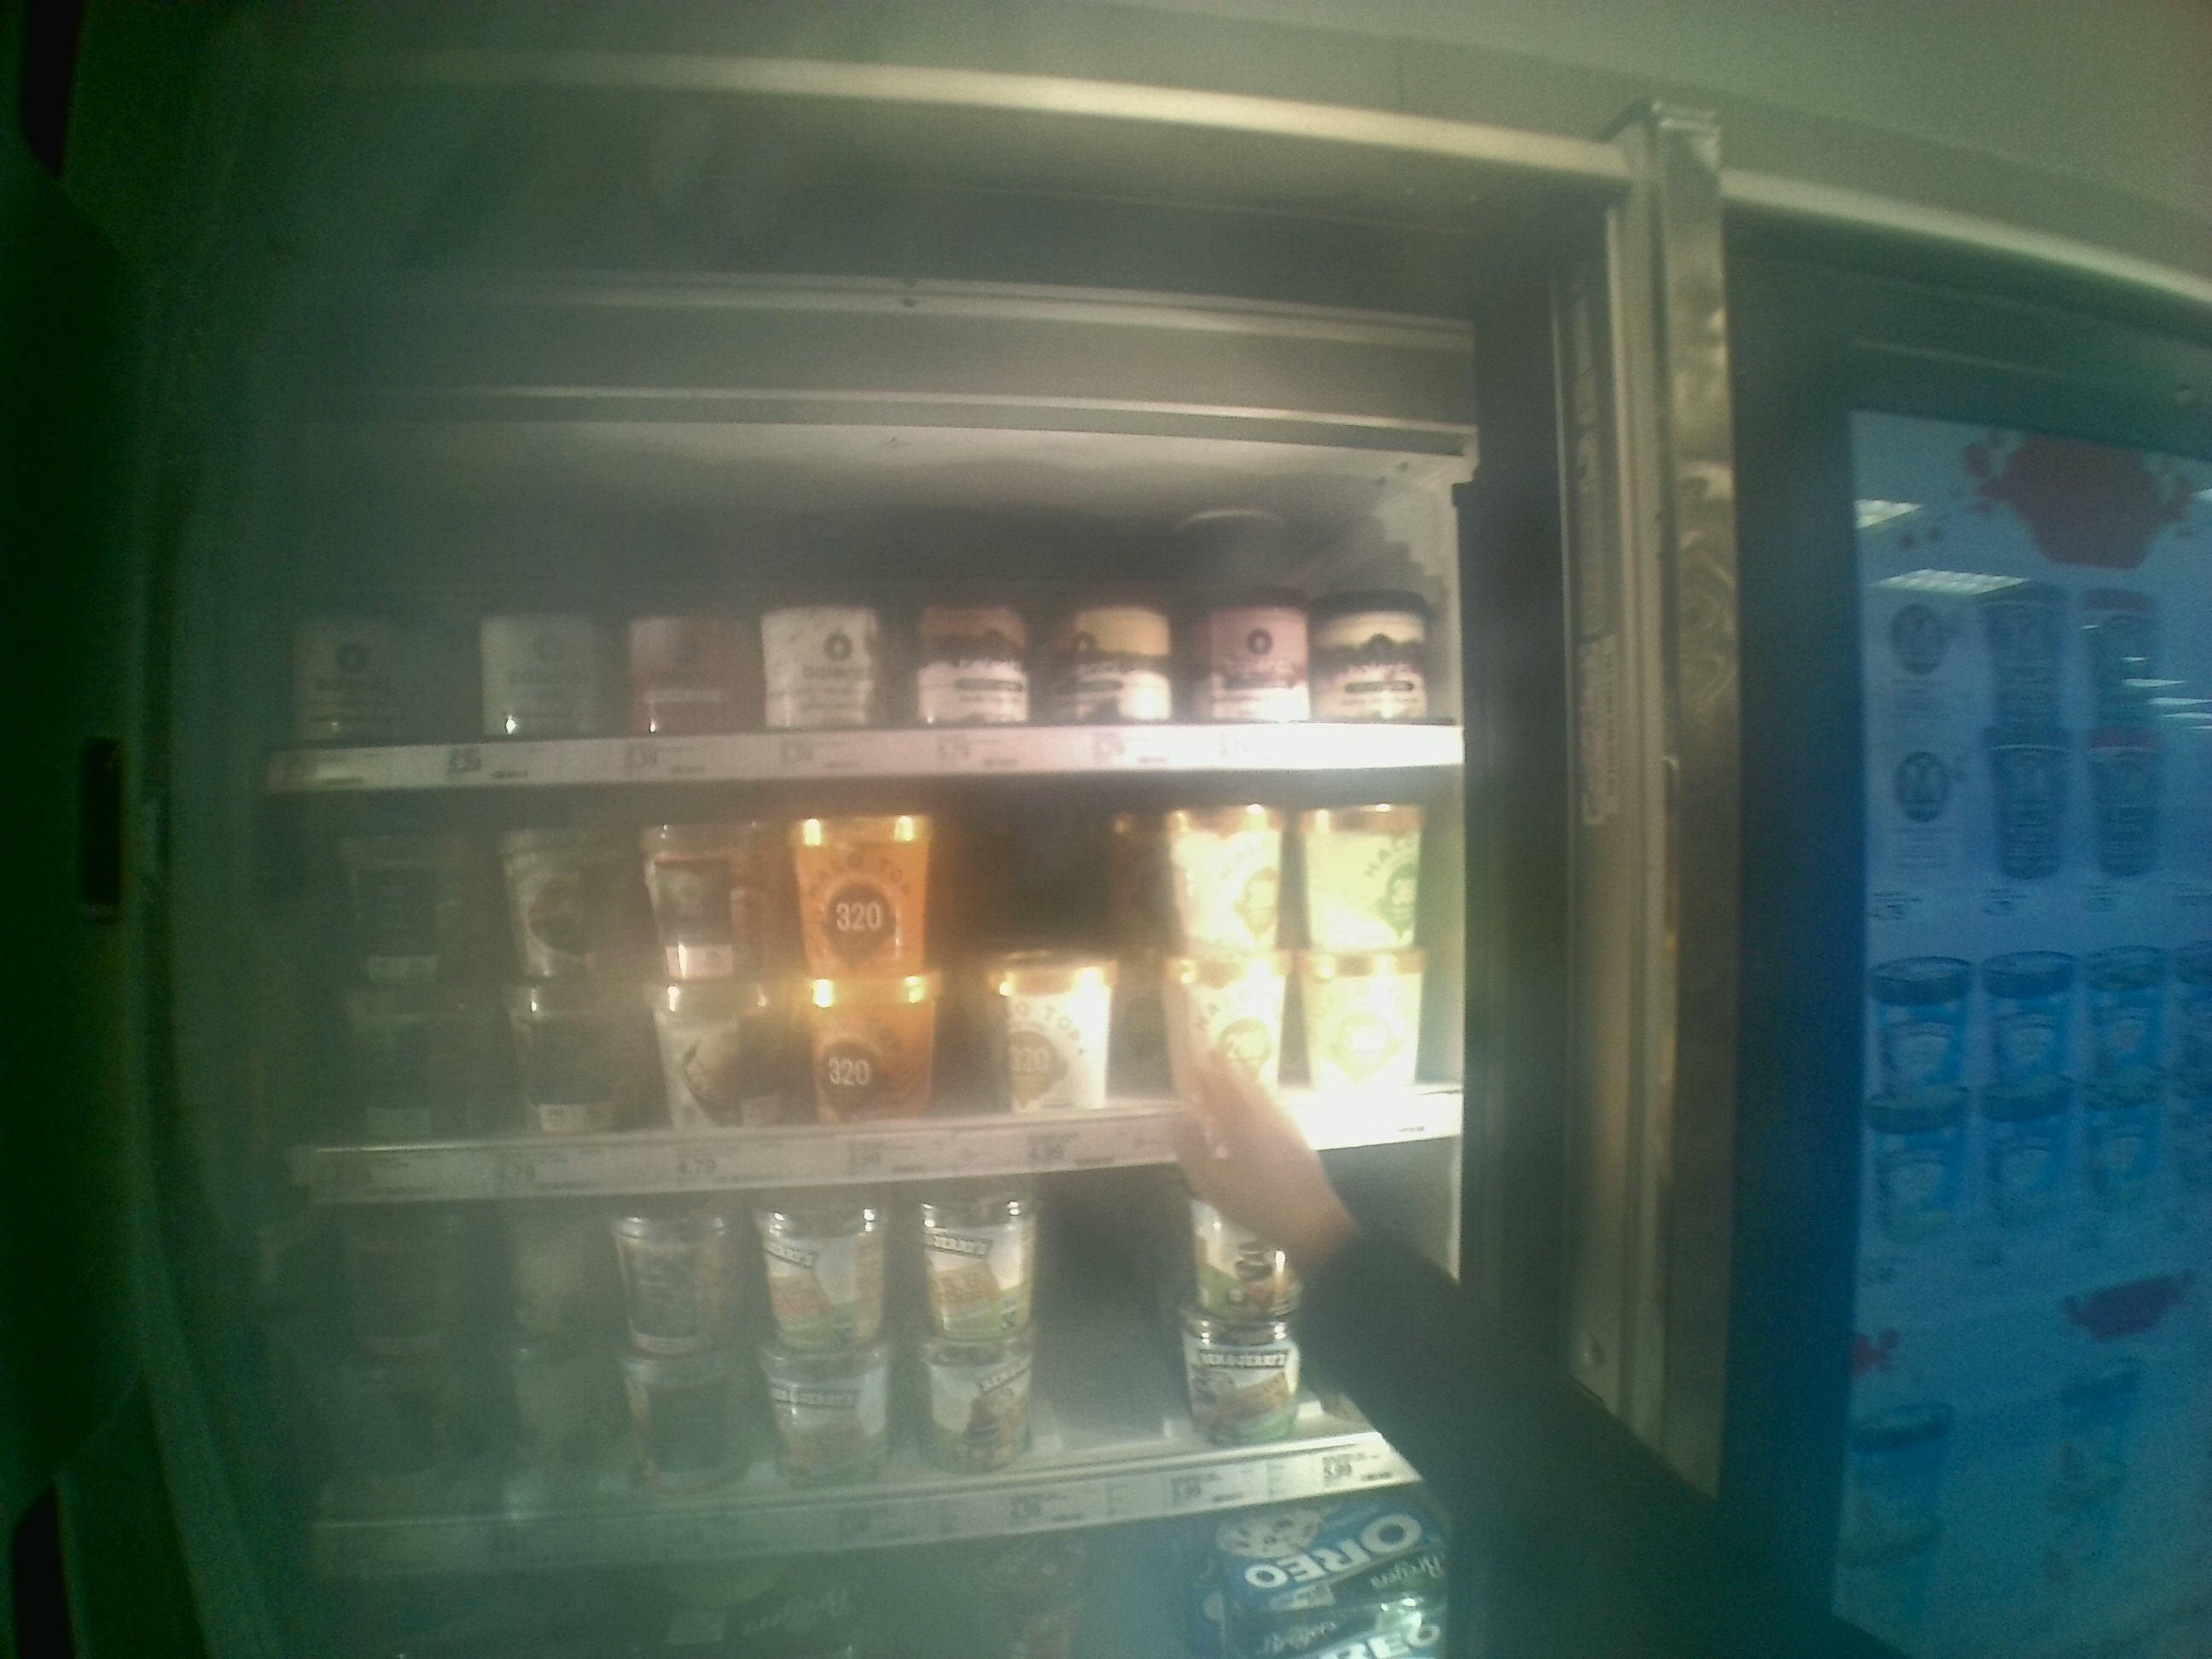ice-cream-shelf: (258, 465, 1467, 781)
